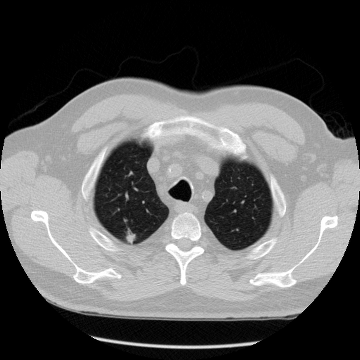nodule: (126, 234, 134, 242)
